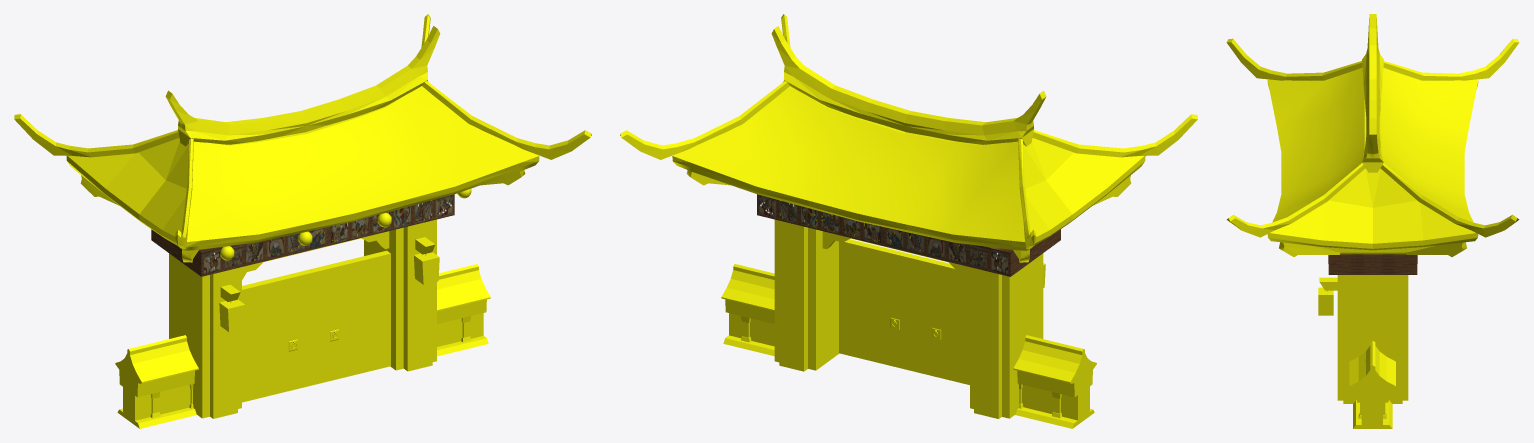
Rendered from 1st_gate_002.glb.
3 views of the same model, side by side, from view 1: azimuth 30°, elevation 25°; view 2: azimuth 150°, elevation 25°; view 3: azimuth 270°, elevation 25° (orthographic). The views are drawn at different scales.
Visible parts, largest first — view 1: 12T_wall_30; view 2: 12T_wall_30; view 3: 12T_wall_30.
Boxes of the visible parts, left/top/right/bottom form: 12T_wall_30: left=14, top=14, right=591, bottom=428; 12T_wall_30: left=620, top=14, right=1197, bottom=428; 12T_wall_30: left=1226, top=14, right=1519, bottom=428.
Bounding box in the file's own units: 15.02 × 10.97 × 10.33.
8 materials, 8 textured.
